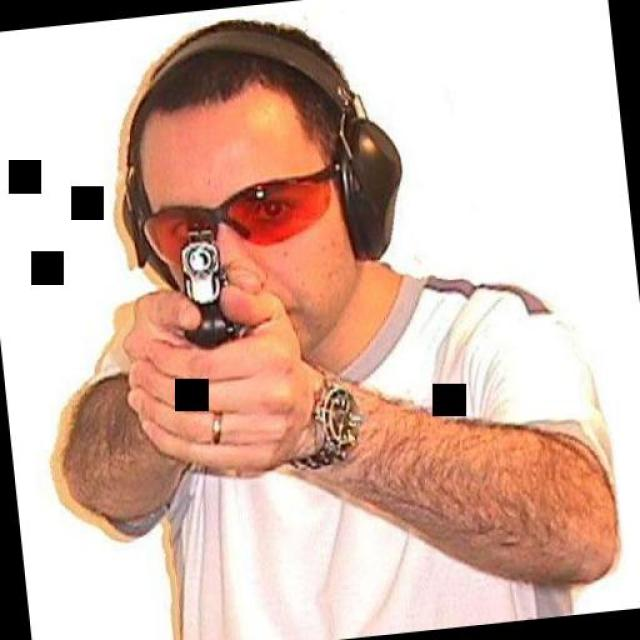gun: (169, 205, 245, 350)
